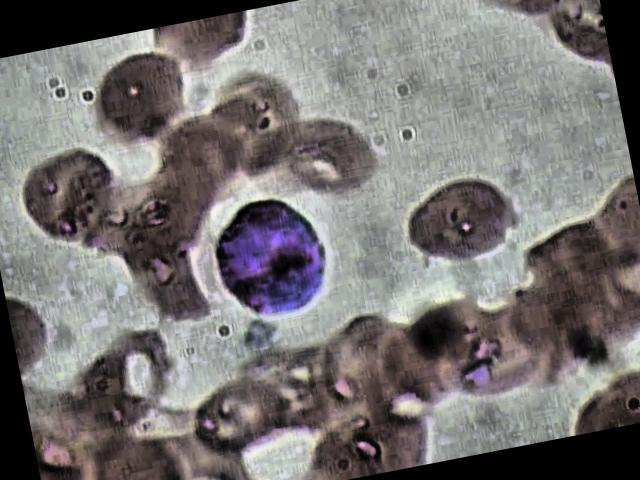RBC: (195, 59, 326, 186), (104, 214, 235, 341), (78, 43, 214, 155), (62, 322, 198, 434), (396, 160, 530, 272), (8, 144, 142, 256), (260, 107, 395, 218), (426, 298, 554, 410), (309, 305, 426, 427), (186, 368, 296, 471), (84, 428, 194, 480), (463, 0, 580, 30)
WBC: (200, 182, 341, 326)
